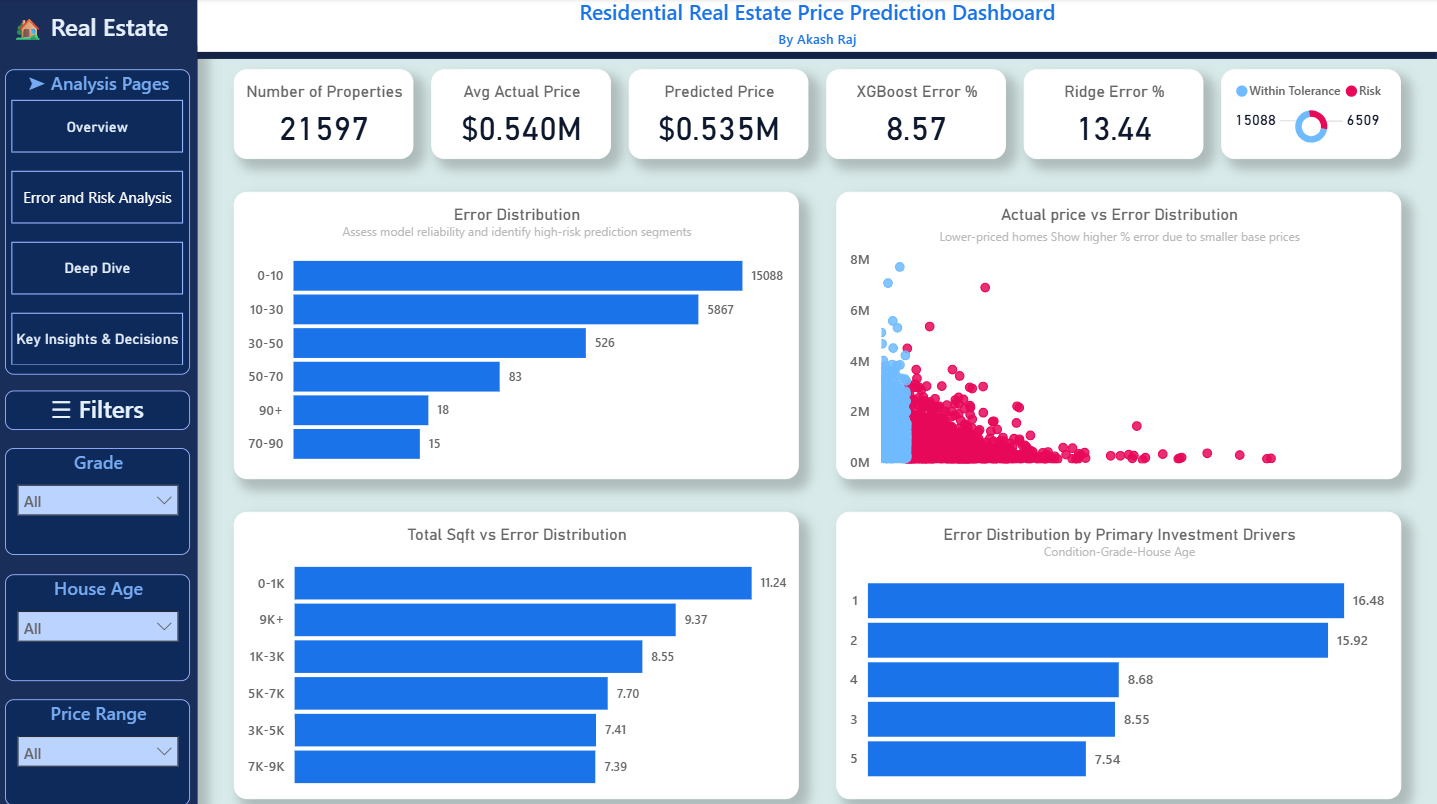

The dashboard page shown, as its layout file describes it:
{"tool":"tableau","page":{"name":"Error Analysis & Model Risk","canvas":[1000,1000],"units":"permille","ordinal":0},"visuals":[{"type":"worksheet","title":"Back 2","mark":"Automatic","box":[0,0,1000,1000]},{"type":"text","box":[47.4,27.8,902.3,47.2]},{"type":"dashboard-object","box":[54.1,33.3,111.3,38.9]},{"type":"filter","title":"Error % vs Price","param":"[federated.0pb6tqq0hun84y1cwjt1z028dbxy].[none:actual_price:qk]","box":[674.4,175,91,98.6]},{"type":"filter","title":"KPI Tiles","param":"[federated.0pb6tqq0hun84y1cwjt1z028dbxy].[none:grade:qk]","box":[766.9,175,91,98.6]},{"type":"filter","title":"KPI Tiles","param":"[federated.0pb6tqq0hun84y1cwjt1z028dbxy].[none:house_age:qk]","box":[859.4,175,91,98.6]},{"type":"worksheet","title":"KPI Tiles","mark":"Automatic","box":[49.6,176.4,581.2,98.6]},{"type":"blank","box":[166.9,176.4,2.3,97.2]},{"type":"blank","box":[281.9,176.4,2.3,97.2]},{"type":"blank","box":[397,176.4,2.3,97.2]},{"type":"blank","box":[512,176.4,2.3,97.2]},{"type":"worksheet","title":"Ridge Error % Distribution","mark":"Automatic","rows":["Calculation_0602830477926402"],"cols":["id"],"box":[674.4,373.6,272.9,244.4]},{"type":"worksheet","title":"Ridge Coefficient Effect","mark":"Automatic","box":[47.4,376.4,130.8,526.4]},{"type":"worksheet","title":"Price Map","mark":"Multipolygon","rows":["lat"],"cols":["long"],"box":[218.8,376.4,206.8,526.4]},{"type":"worksheet","title":"Error % vs Price","mark":"Automatic","rows":["xgb_error_pct"],"cols":["actual_price"],"box":[427.8,376.4,206.8,526.4]},{"type":"legend","title":"Error % vs Price","param":"[federated.0pb6tqq0hun84y1cwjt1z028dbxy].[none:Calculation_0458520059084800:nk]","box":[518.8,387.5,111.3,69.4]},{"type":"worksheet","title":"XGBoost Error % Distribution","mark":"Bar","rows":["Calculation_0602830478553091"],"cols":["id"],"box":[674.4,665.3,272.9,244.4]},{"type":"legend","title":"Price Map","param":"[federated.0pb6tqq0hun84y1cwjt1z028dbxy].[none:grade:qk]","box":[317.3,811.1,105.3,86.1]}]}

Visuals, with their boxes on the dashboard's canvas, which has no fixed pixel size, in thousandths of its width and height (x1, y1, x2, y2). These are canvas units, not pixel positions in the 1437x804 screenshot, which may show the page scaled, cropped or inside an application window:
"Back 2" worksheet: (0, 0, 1000, 1000)
text: (47, 28, 950, 75)
dashboard-object: (54, 33, 165, 72)
"Error % vs Price" filter: (674, 175, 765, 274)
"KPI Tiles" filter: (767, 175, 858, 274)
"KPI Tiles" filter: (859, 175, 950, 274)
"KPI Tiles" worksheet: (50, 176, 631, 275)
blank: (167, 176, 169, 274)
blank: (282, 176, 284, 274)
blank: (397, 176, 399, 274)
blank: (512, 176, 514, 274)
"Ridge Error % Distribution" worksheet: (674, 374, 947, 618)
"Ridge Coefficient Effect" worksheet: (47, 376, 178, 903)
"Price Map" worksheet (Multipolygon marks): (219, 376, 426, 903)
"Error % vs Price" worksheet: (428, 376, 635, 903)
"Error % vs Price" legend: (519, 388, 630, 457)
"XGBoost Error % Distribution" worksheet (Bar marks): (674, 665, 947, 910)
"Price Map" legend: (317, 811, 423, 897)
